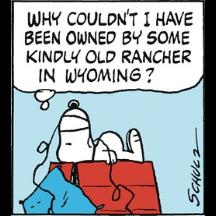snoopy: (56, 99, 146, 187)
